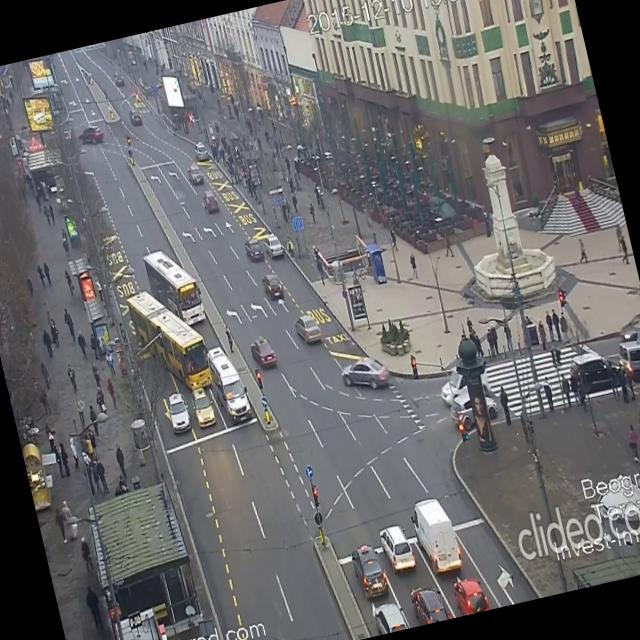bus: (123, 279, 214, 401), (140, 240, 207, 332), (204, 342, 254, 427)
car: (411, 496, 465, 574), (348, 541, 391, 600), (379, 520, 419, 580), (338, 352, 392, 396), (436, 368, 487, 412), (569, 350, 620, 394), (408, 582, 454, 626), (450, 572, 490, 616), (450, 392, 498, 428), (613, 336, 640, 387), (164, 390, 193, 434), (374, 598, 408, 634), (248, 332, 278, 371), (192, 382, 218, 423), (292, 312, 322, 346), (260, 270, 284, 302), (263, 229, 285, 257), (242, 235, 264, 262), (198, 188, 220, 214), (80, 124, 104, 146), (187, 161, 202, 182), (127, 108, 142, 126), (195, 142, 208, 162), (112, 69, 124, 86)
